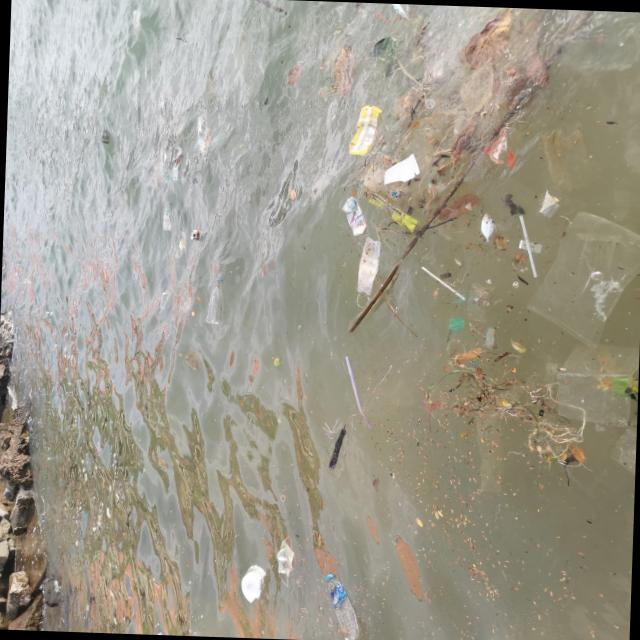can: (192, 230, 202, 240)
foam: (326, 573, 366, 640), (241, 565, 269, 605)
plastic bottle: (206, 280, 223, 324)
